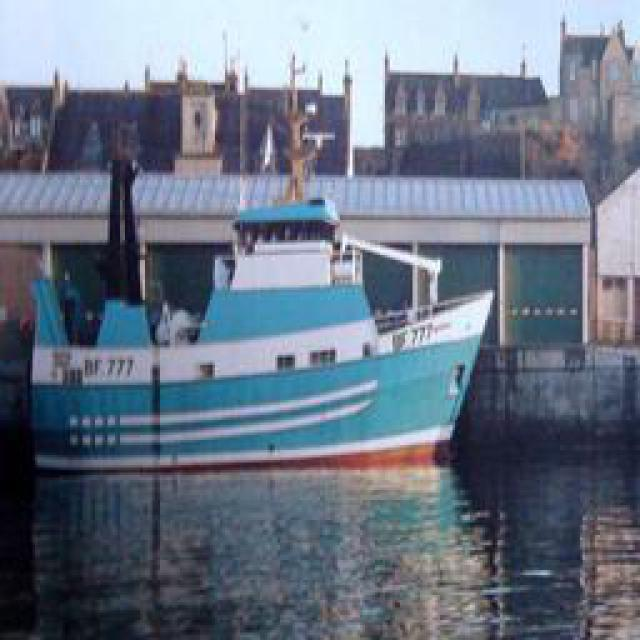Ship: (25, 50, 503, 479)
